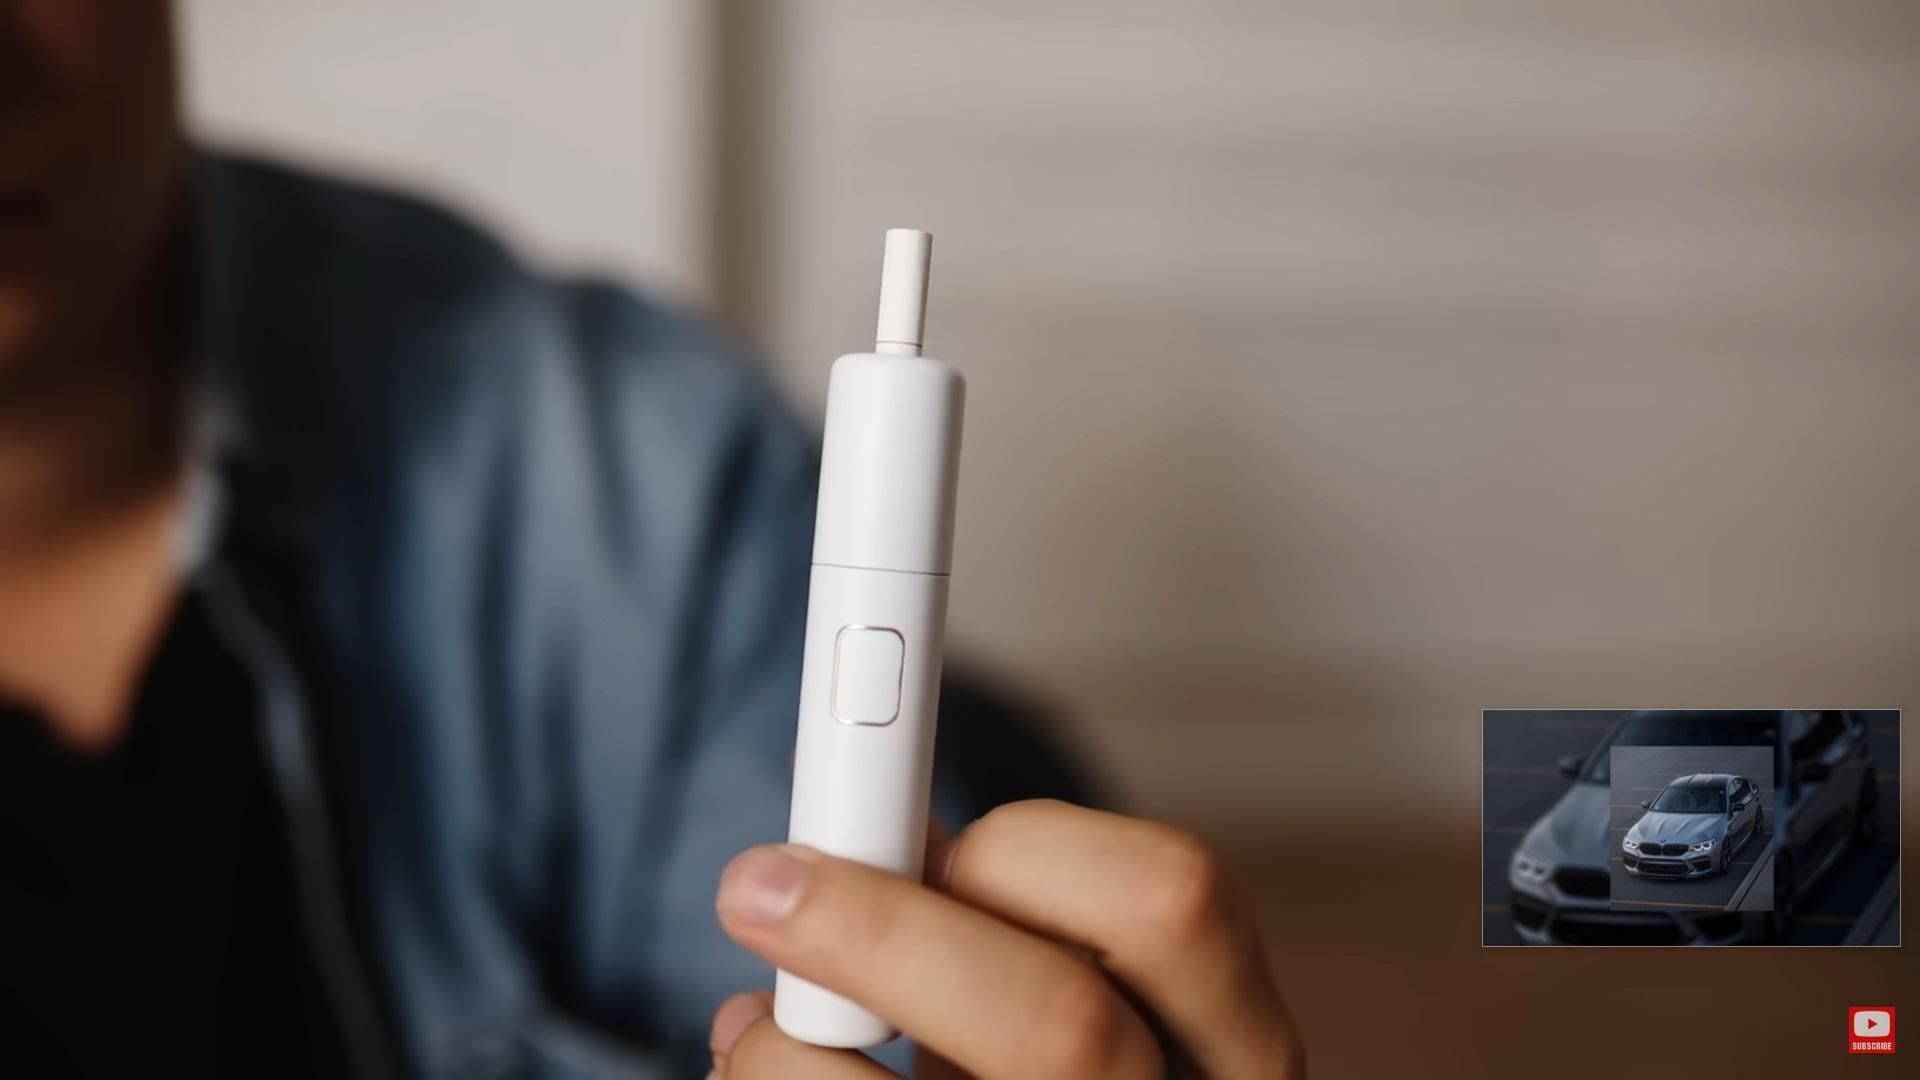iqos: (770, 228, 968, 1052)
